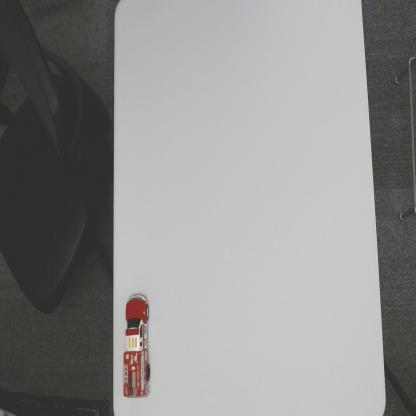Firetruck: (122, 292, 151, 402)
